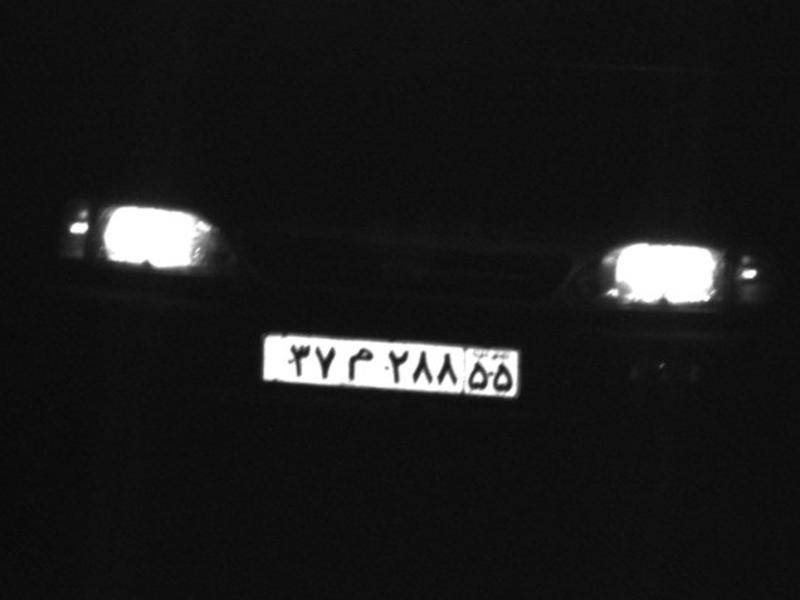Plate: (264, 331, 524, 402)
